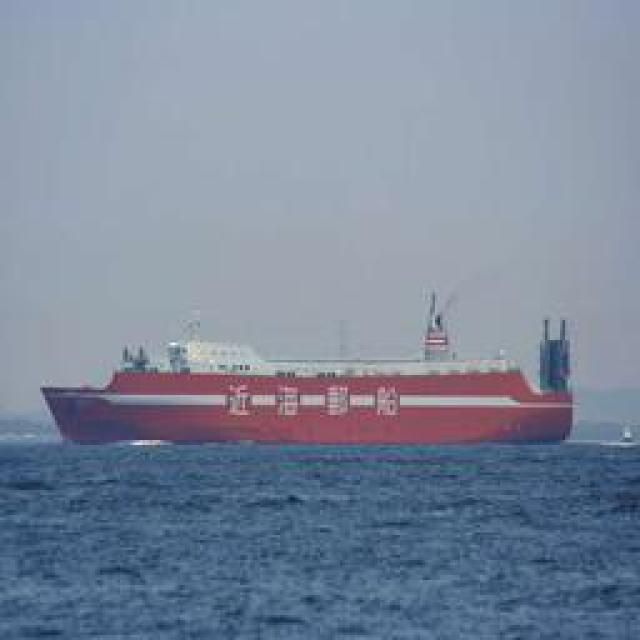Ship: (46, 326, 579, 449)
